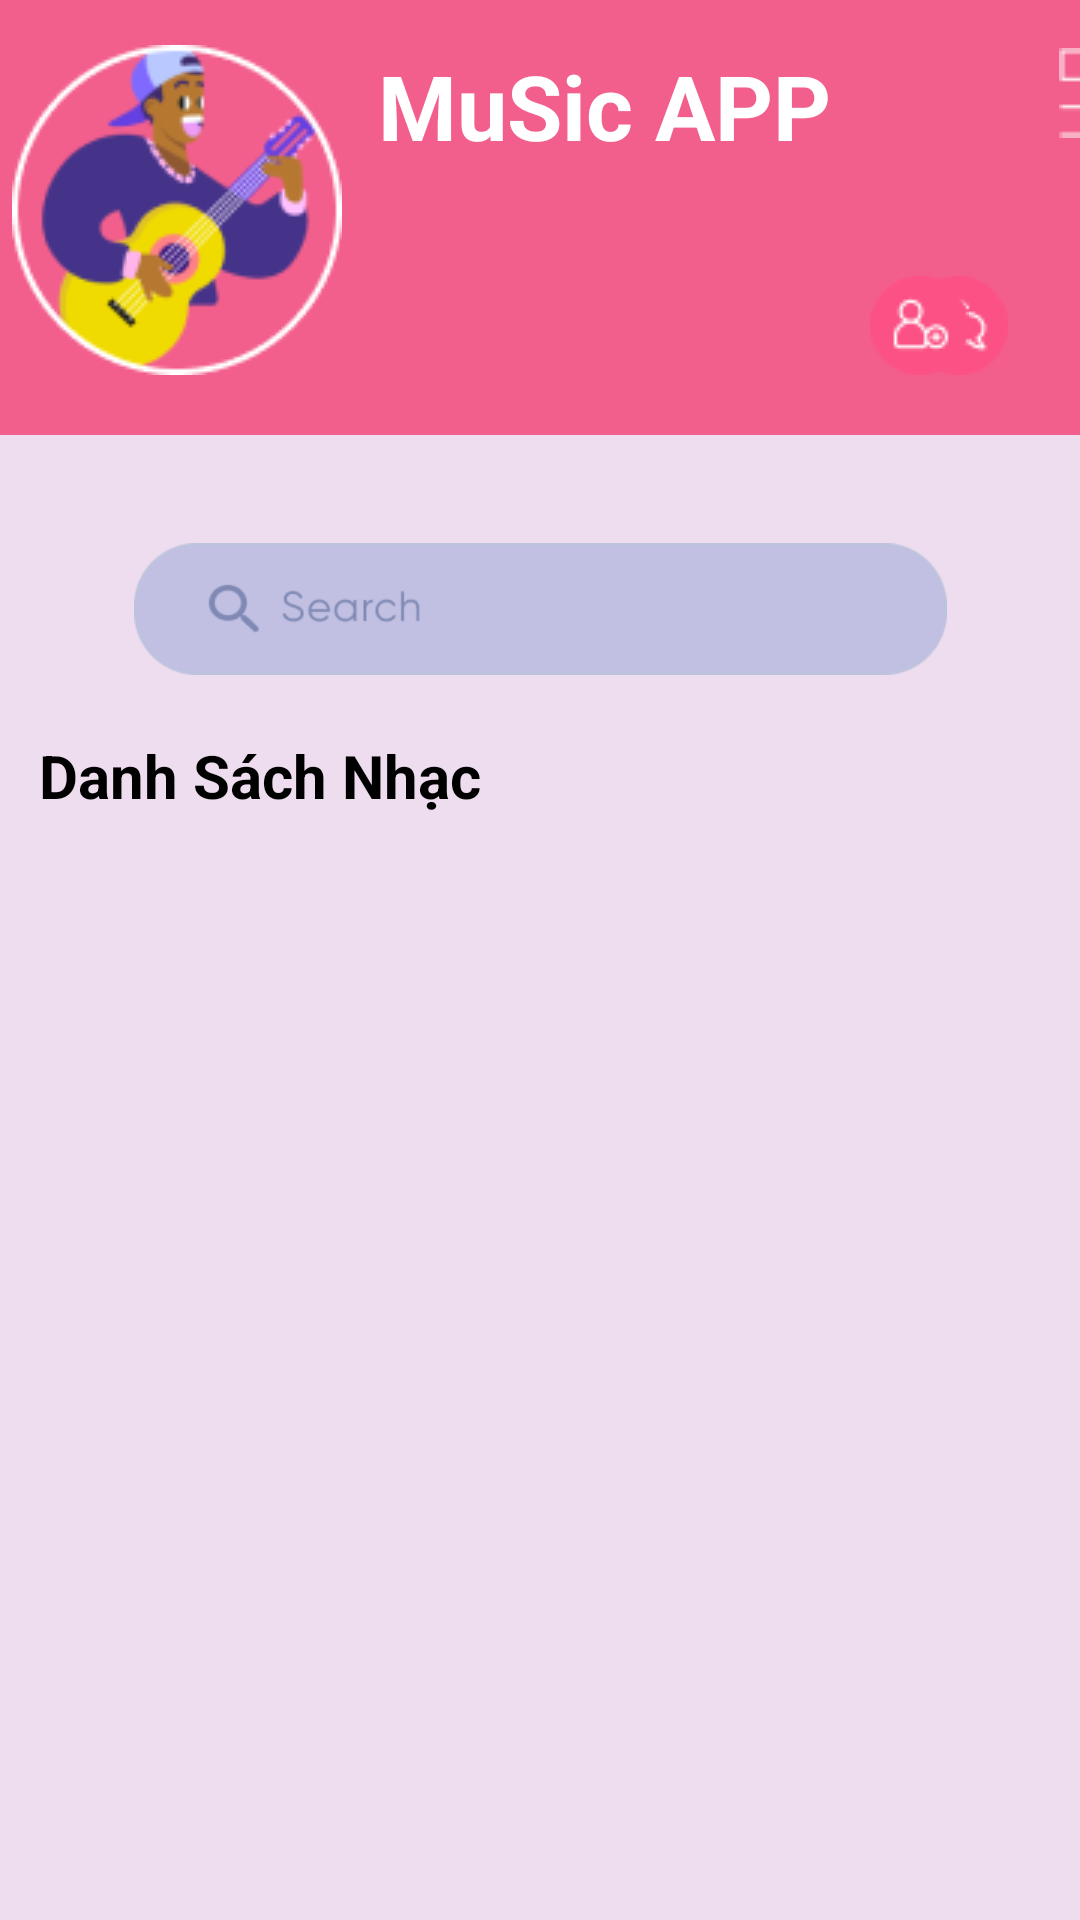

Icon click points for this 1080w x 1920h phone screenshot, format point (x, y):
avata: point (177, 210)
